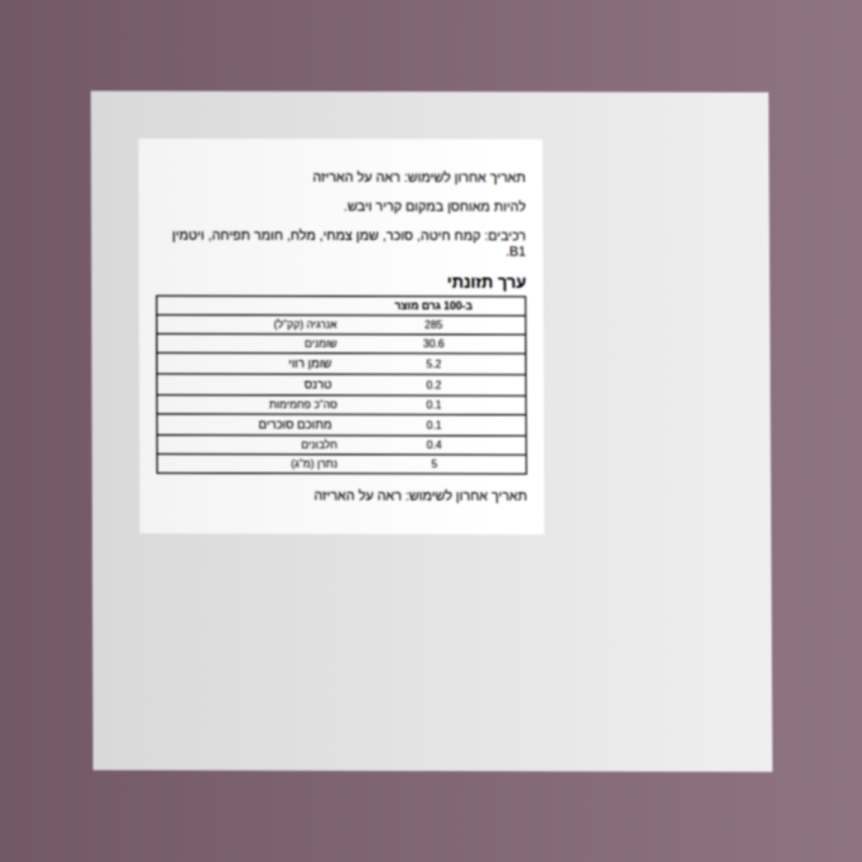carbs: (425, 398, 443, 412)
energy: (423, 317, 444, 332)
fat: (422, 336, 446, 351)
protein: (425, 438, 443, 452)
